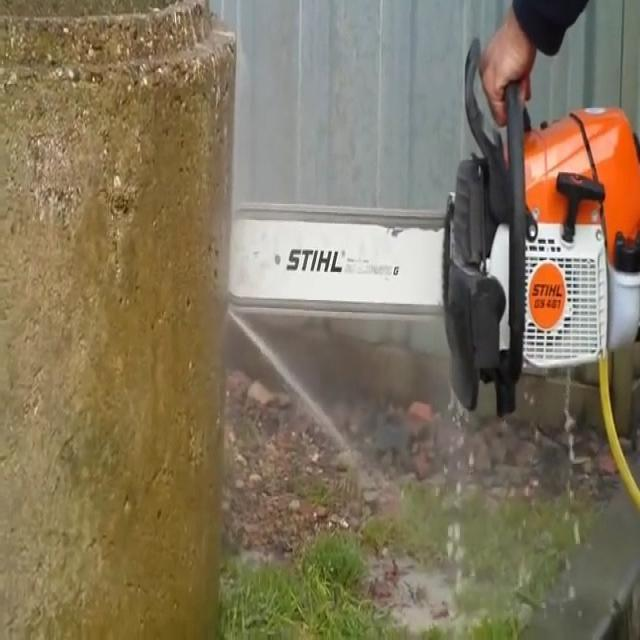Chainsaw: (203, 21, 640, 423)
